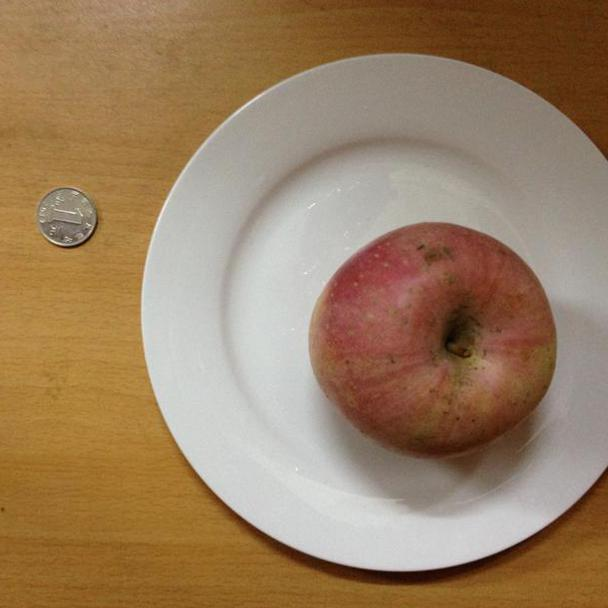apple: (307, 224, 559, 459)
